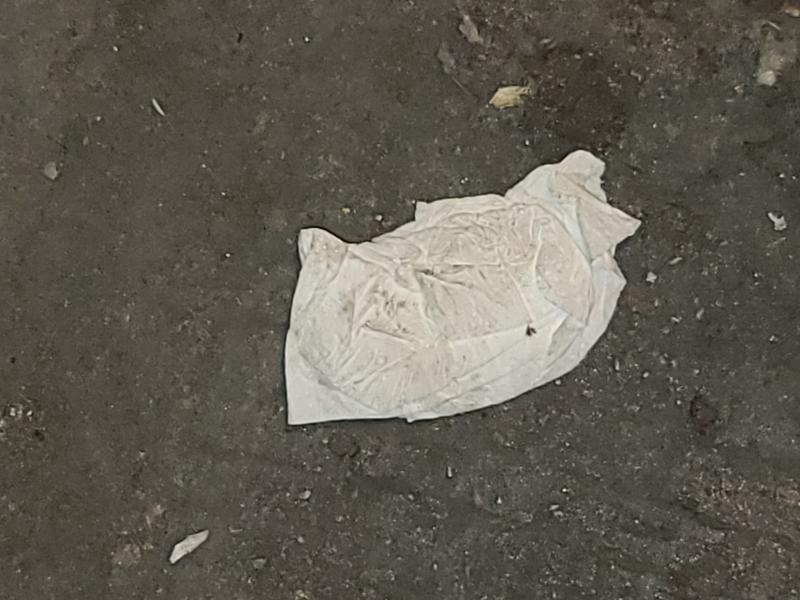papel: (283, 150, 641, 430)
